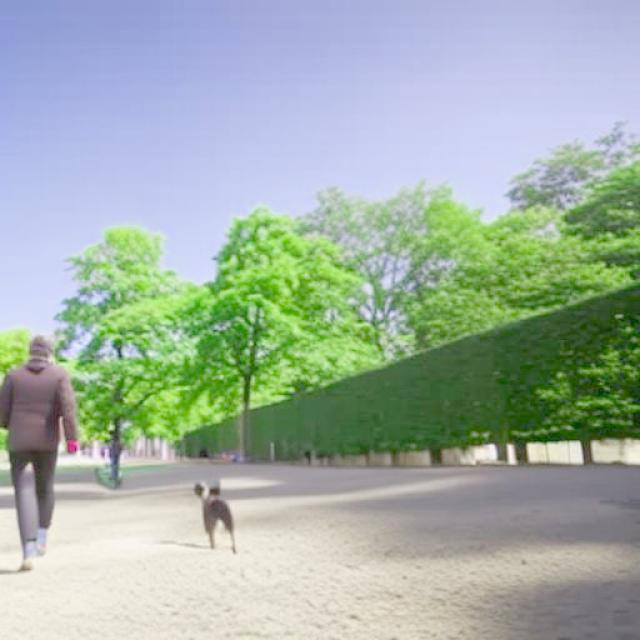Unleashed_Dog: (8, 452, 238, 556)
